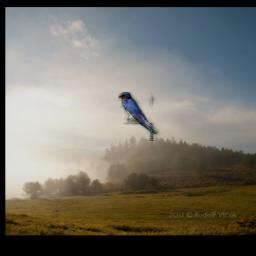Swallow: (118, 93, 171, 142)
